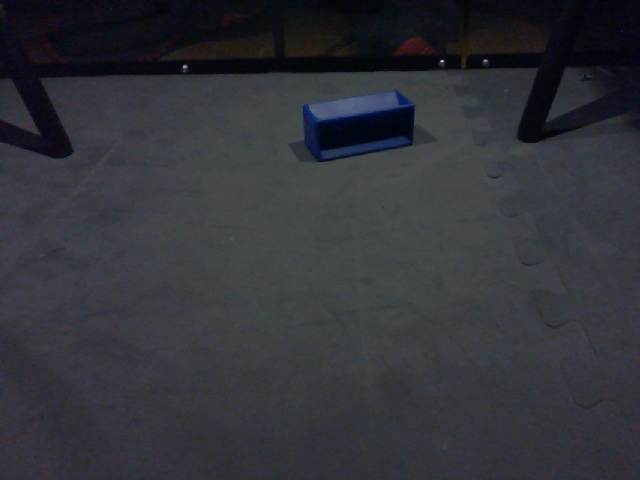BlueSample: (301, 86, 417, 163)
